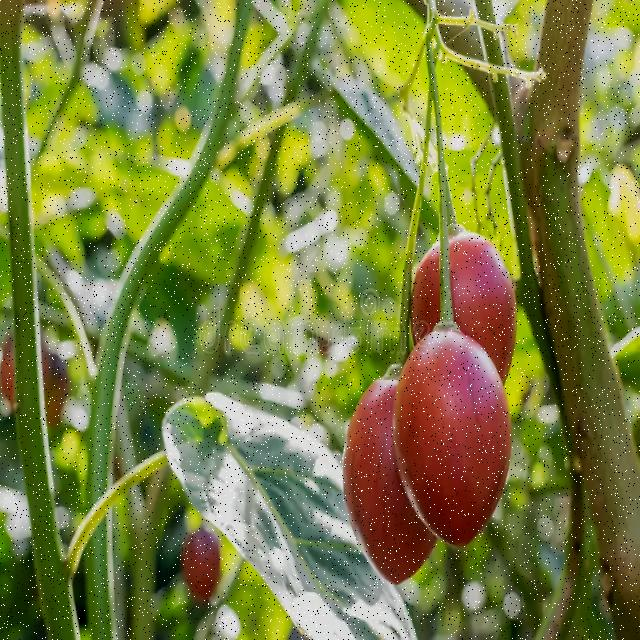Tree Tomato: (314, 352, 441, 613), (400, 194, 518, 432), (398, 323, 510, 544)
